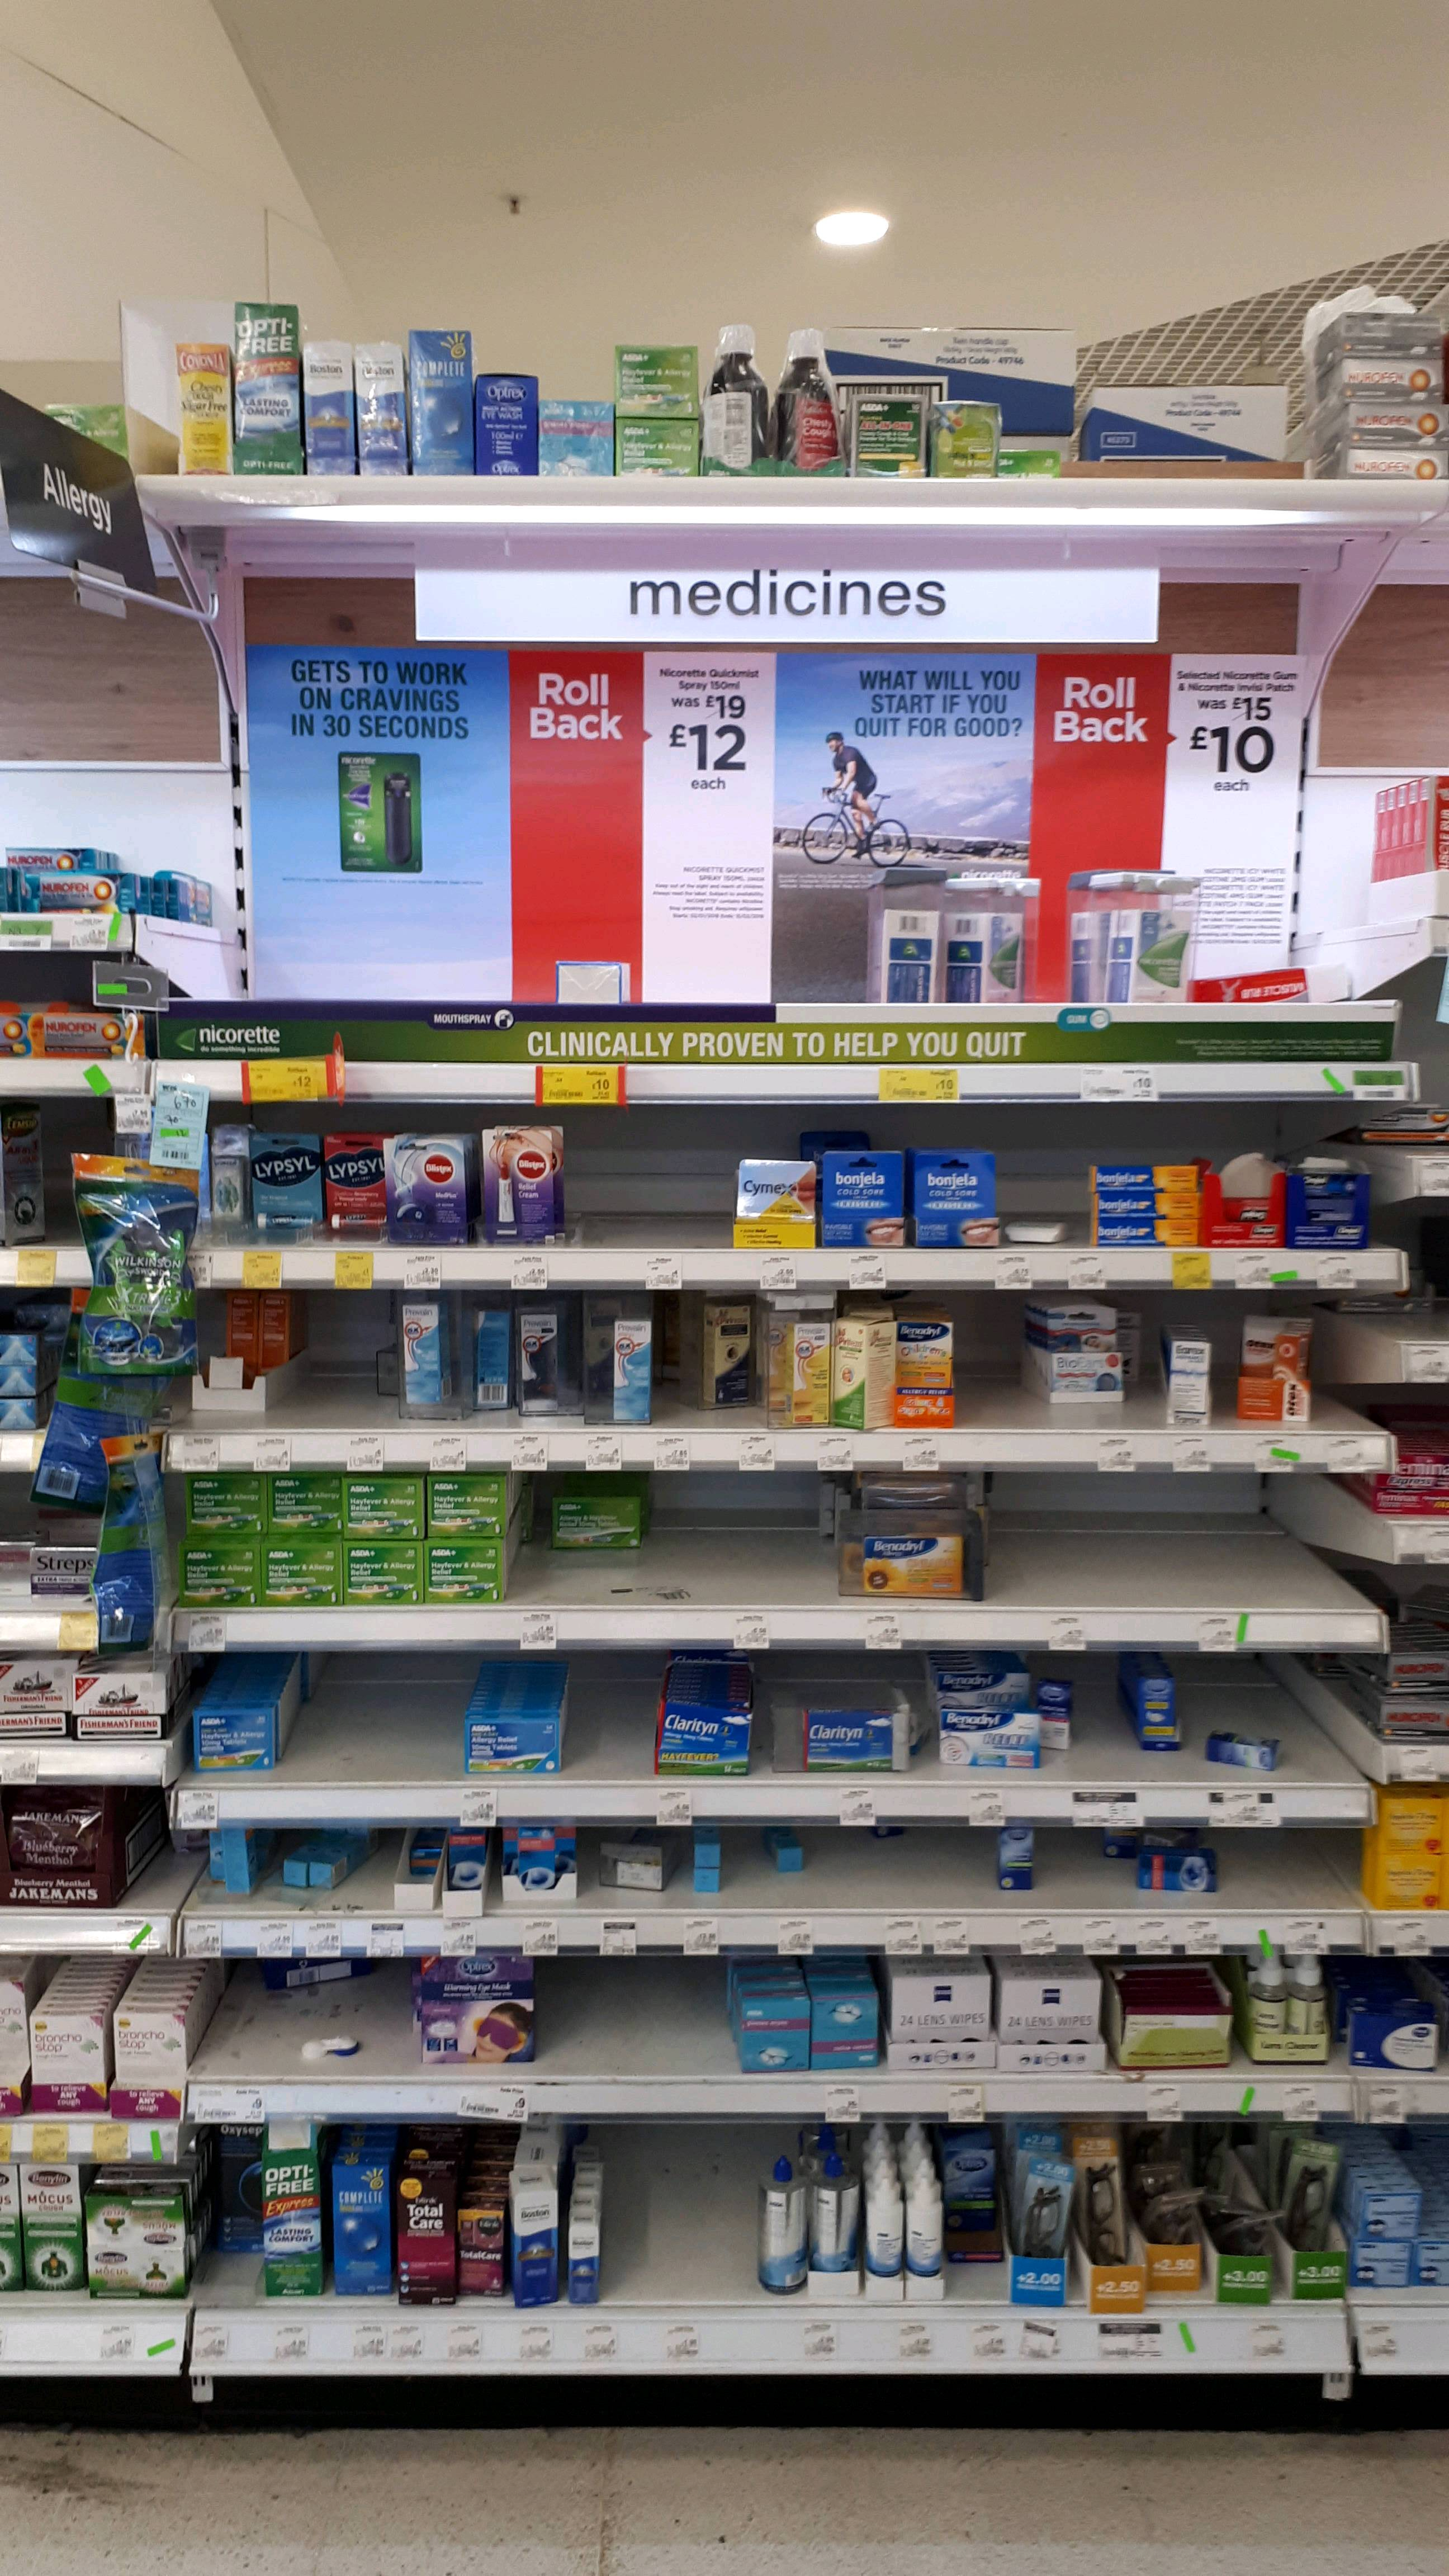Misplacement: (941, 2123, 1010, 2304)
Out-of-stock: (1001, 1474, 1375, 1610)
